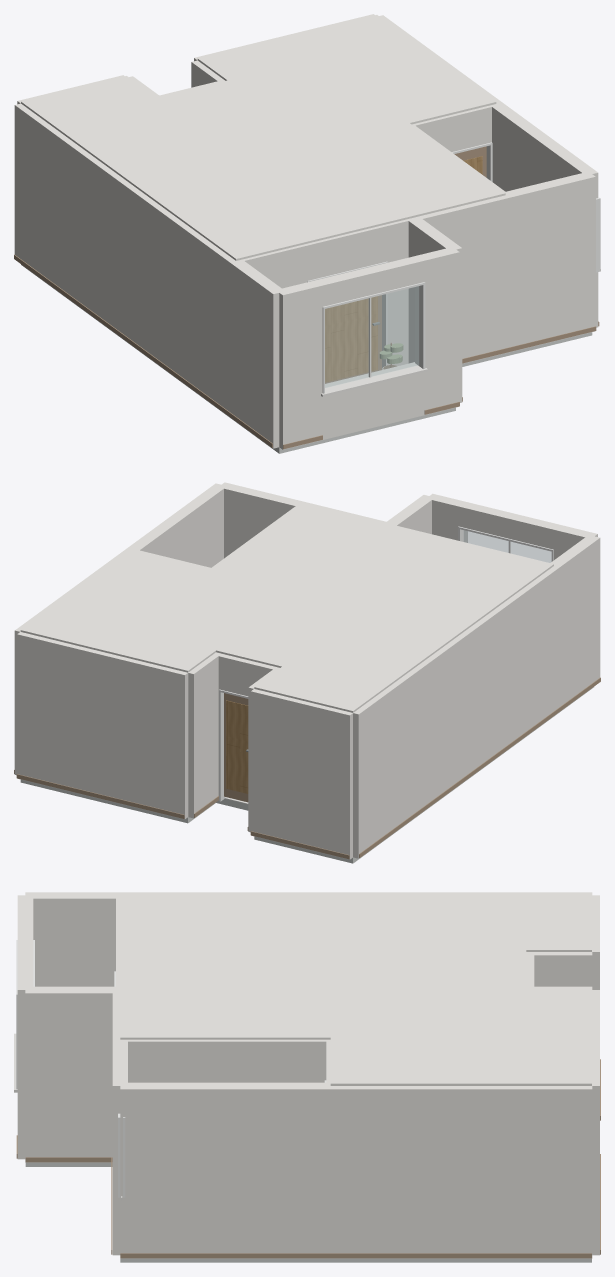
File: option-01.glb
3 views of the same model, one above another, from view 1: azimuth 30°, elevation 25°; view 2: azimuth 150°, elevation 25°; view 3: azimuth 270°, elevation 25° (orthographic). The views are drawn at different scales.
Visible parts, largest first — view 1: 一居01_architecture_plaster, 一居01_ceiling_plaster, 一居01_glass_glass, 门扇_south-bal-door_oak, 一居01_frames_ceramic, 一居01_trim_wood, 一居01_slab_slab, 一居01_frames_marble; view 2: 一居01_architecture_plaster, 一居01_ceiling_plaster, 一居01_trim_wood, 门扇_entry_oak, 一居01_slab_slab, 一居01_frames_ceramic, 一居01_glass_glass, 门扇_entry_wood; view 3: 一居01_architecture_plaster, 一居01_ceiling_plaster, 一居01_trim_wood, 一居01_slab_slab, 一居01_frames_ceramic.
Part boxes in pixels (x1,y1,x2,y2): 一居01_architecture_plaster: (14, 14, 598, 449); 一居01_ceiling_plaster: (21, 15, 505, 260); 一居01_glass_glass: (325, 286, 418, 387); 门扇_south-bal-door_oak: (325, 296, 377, 382); 一居01_frames_ceramic: (307, 142, 600, 393); 一居01_trim_wood: (14, 254, 599, 449); 一居01_slab_slab: (21, 264, 592, 453); 一居01_frames_marble: (321, 269, 600, 396); 一居01_architecture_plaster: (14, 482, 600, 859); 一居01_ceiling_plaster: (20, 502, 553, 712); 一居01_trim_wood: (14, 677, 600, 859); 门扇_entry_oak: (226, 700, 248, 793); 一居01_slab_slab: (20, 687, 593, 863); 一居01_frames_ceramic: (219, 526, 553, 801); 一居01_glass_glass: (464, 530, 551, 562); 门扇_entry_wood: (224, 693, 248, 802); 一居01_architecture_plaster: (17, 892, 599, 1258); 一居01_ceiling_plaster: (120, 893, 591, 1085); 一居01_trim_wood: (16, 1059, 600, 1258); 一居01_slab_slab: (25, 1162, 591, 1262); 一居01_frames_ceramic: (16, 940, 326, 1197).
Bounding box in the file's own units: 6.93 × 2.91 × 8.63.
Materials: 17 (2 with a texture image).
